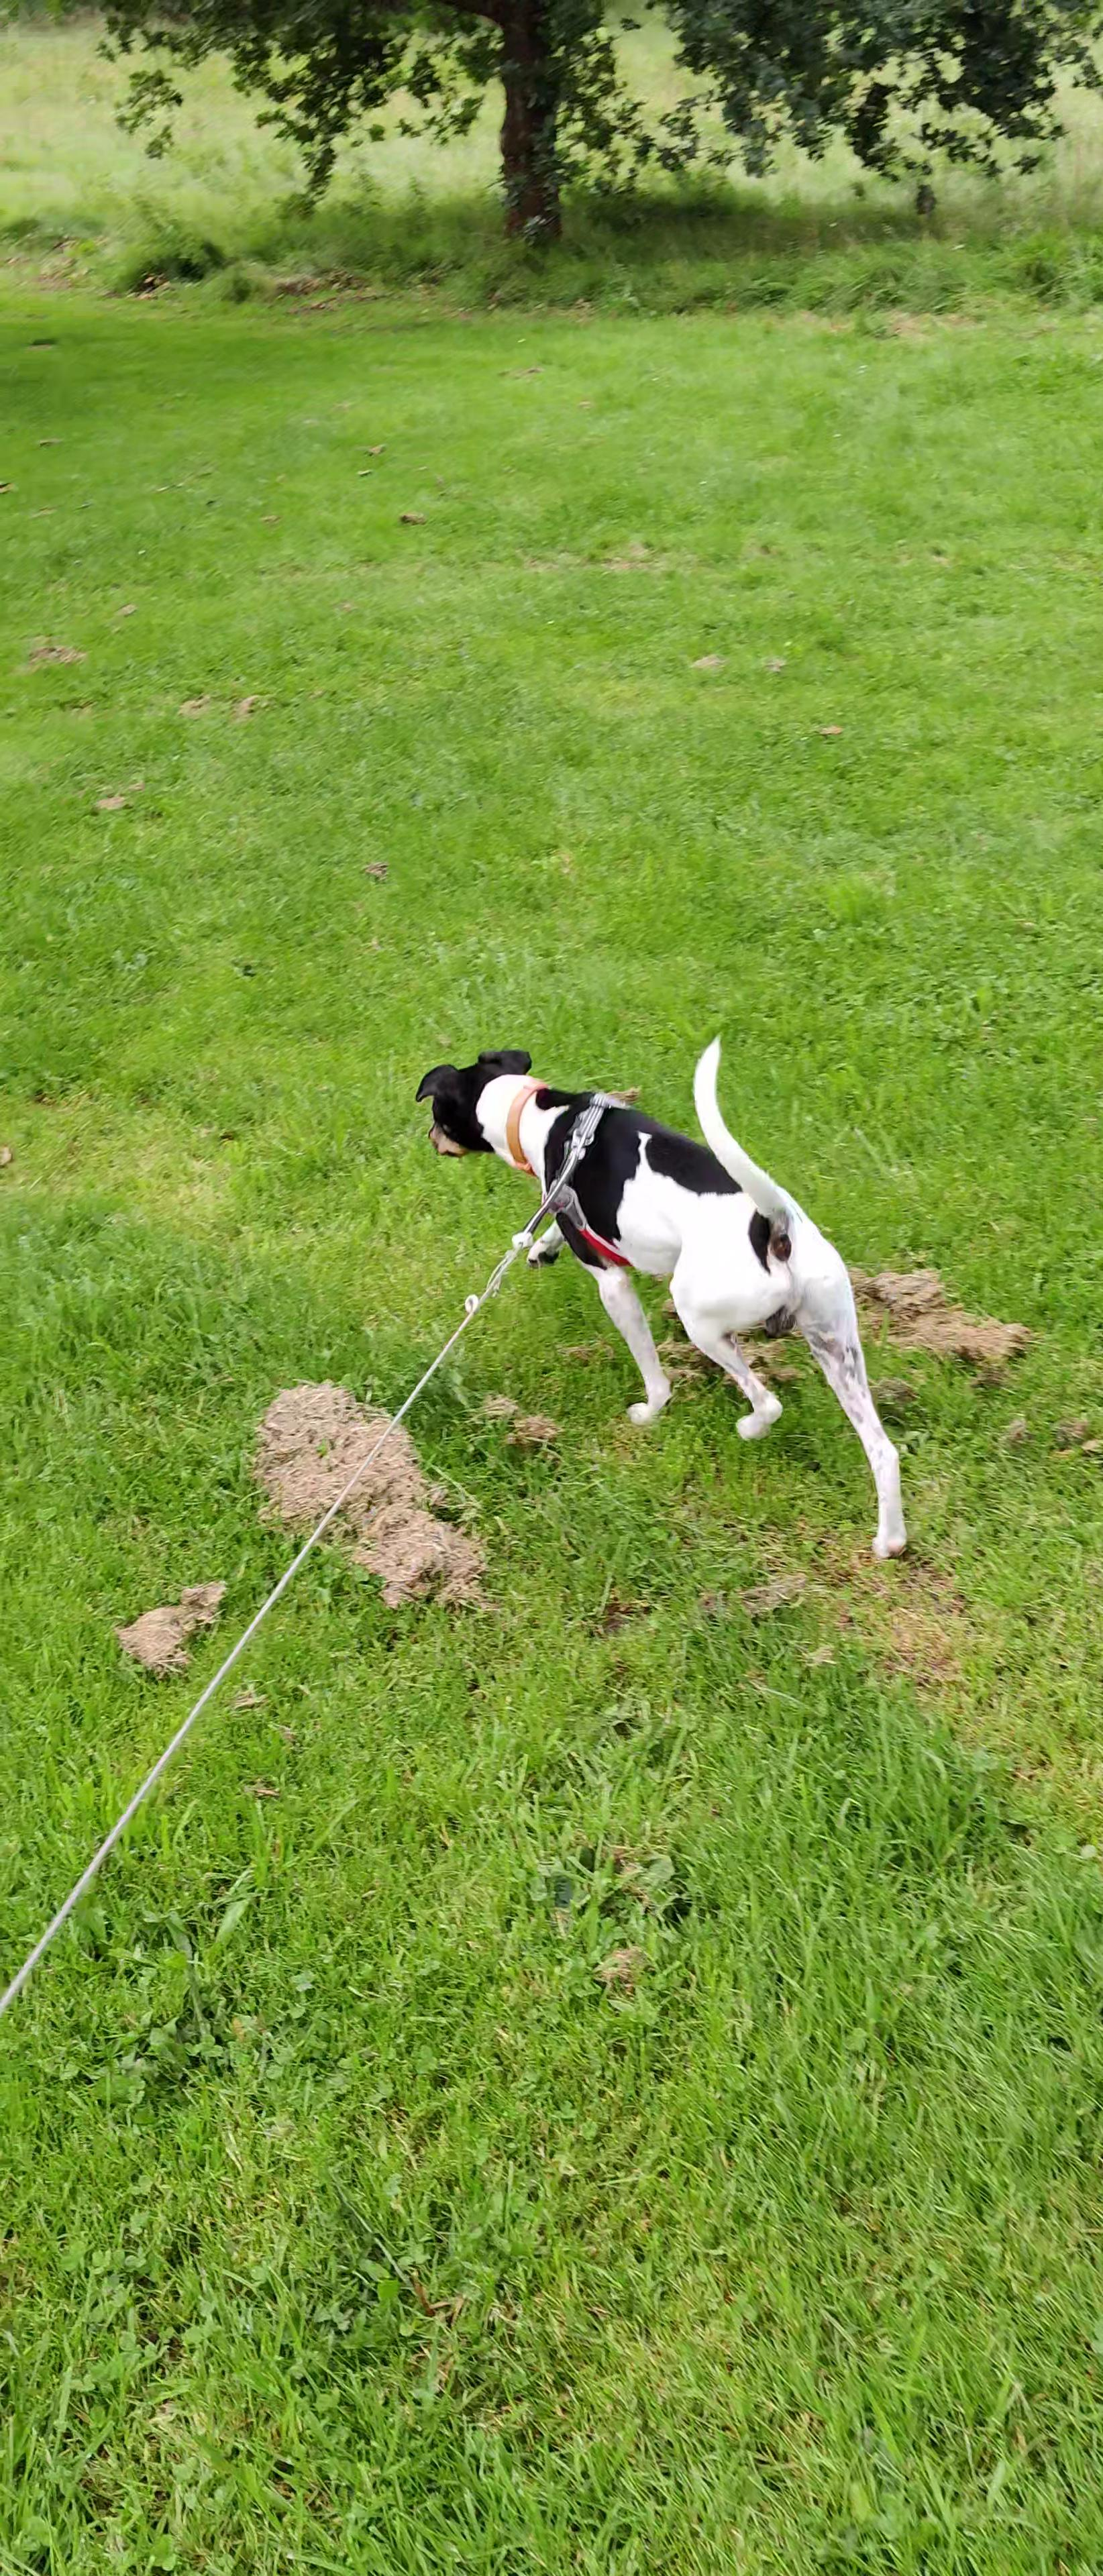Dog: (409, 1035, 921, 1566)
